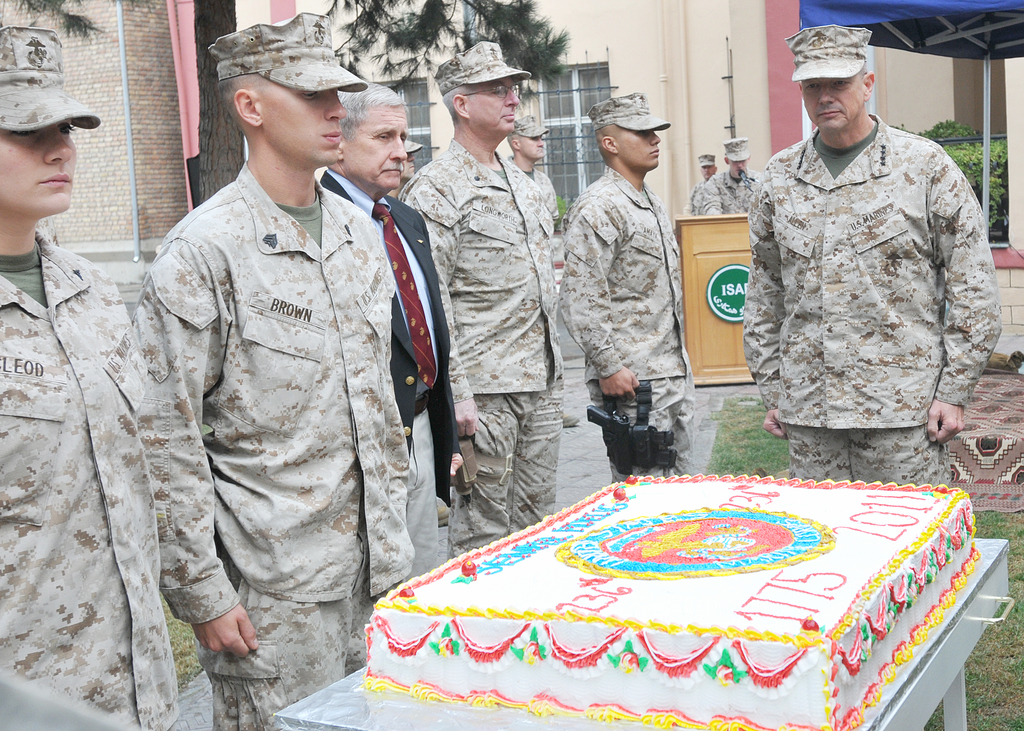cake: (364, 475, 976, 730)
